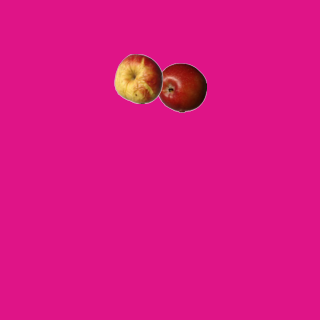Apple Braeburn: (156, 62, 206, 112)
Apple Red Yellow 1: (113, 53, 163, 103)
